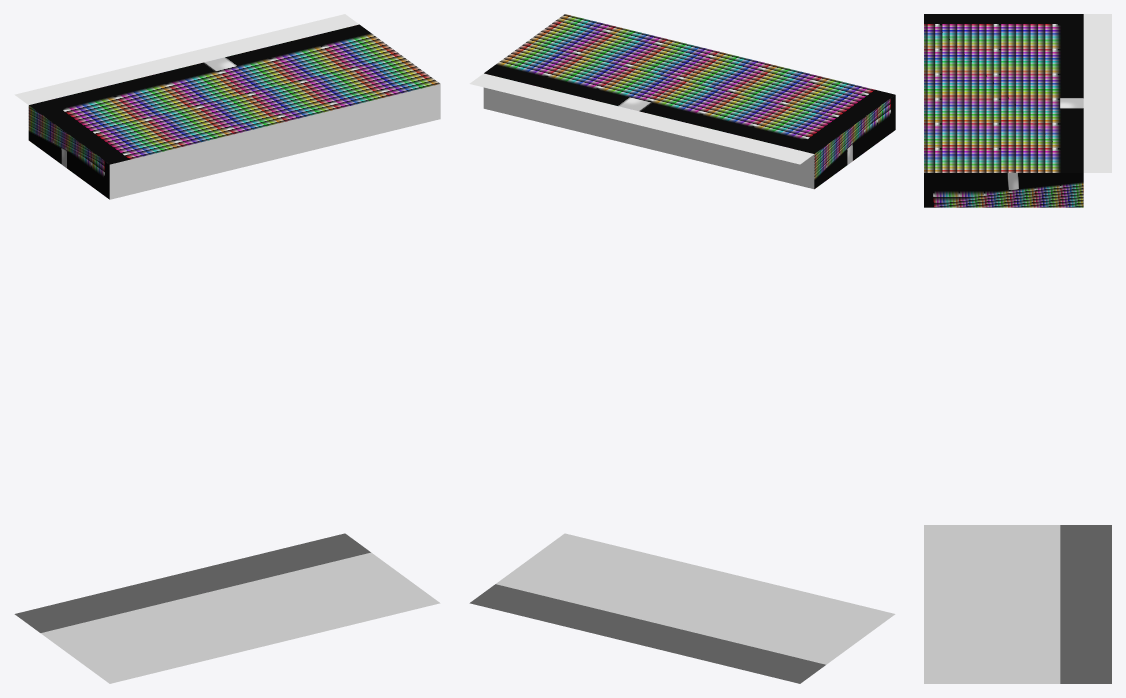
The model's file is ground_line_2_2.fbx.
The picture shows the model from 3 angles, left to right: view 1: azimuth 30°, elevation 25°; view 2: azimuth 150°, elevation 25°; view 3: azimuth 270°, elevation 25°; orthographic projection.
Visible parts, largest first — view 1: shadowsOnly, ground_line_2_2, ceiling_line_2_2; view 2: shadowsOnly, ground_line_2_2, ceiling_line_2_2; view 3: shadowsOnly, ground_line_2_2, ceiling_line_2_2.
Part boxes in pixels (x1,y1,x2,y2): shadowsOnly: [28, 24, 440, 199]; ground_line_2_2: [14, 533, 440, 683]; ceiling_line_2_2: [14, 14, 358, 104]; shadowsOnly: [483, 14, 895, 189]; ground_line_2_2: [469, 533, 895, 683]; ceiling_line_2_2: [469, 73, 813, 164]; shadowsOnly: [924, 14, 1083, 207]; ground_line_2_2: [924, 525, 1111, 683]; ceiling_line_2_2: [1083, 14, 1111, 172].
Size of what is drawn, in the model's own units: 200 by 300 by 100.
